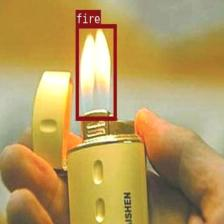fire: (75, 24, 116, 120)
